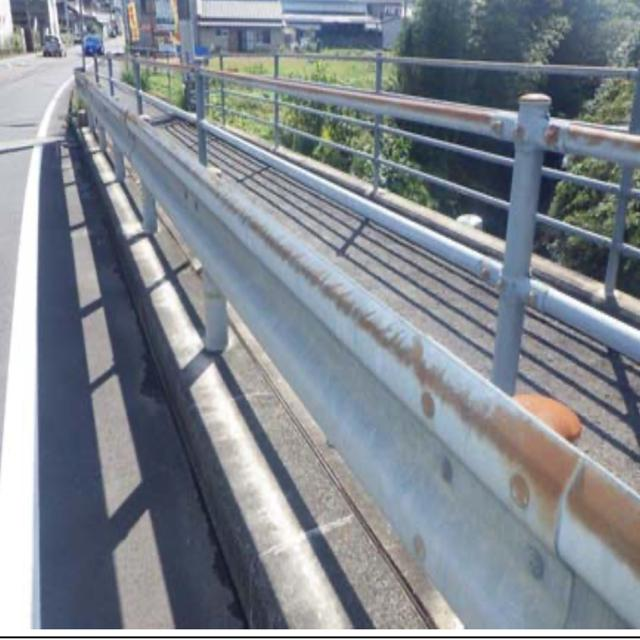corrosion: (413, 318, 638, 583)
